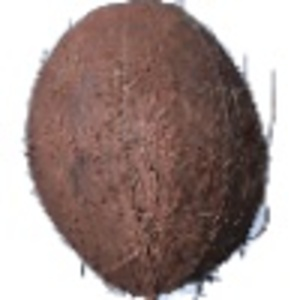coco: (26, 1, 273, 300)
